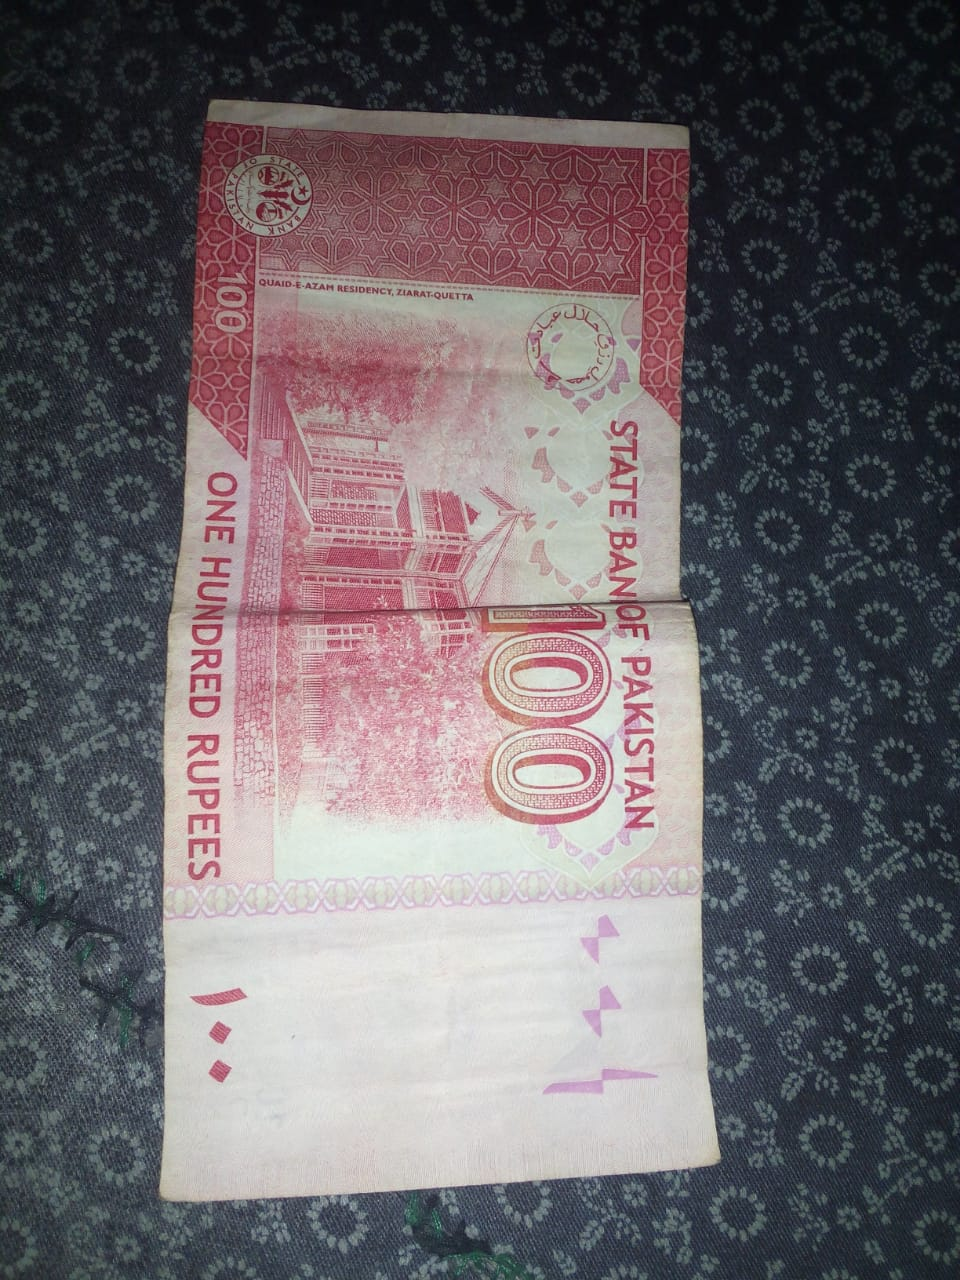100 rupee: (110, 84, 771, 1215)
